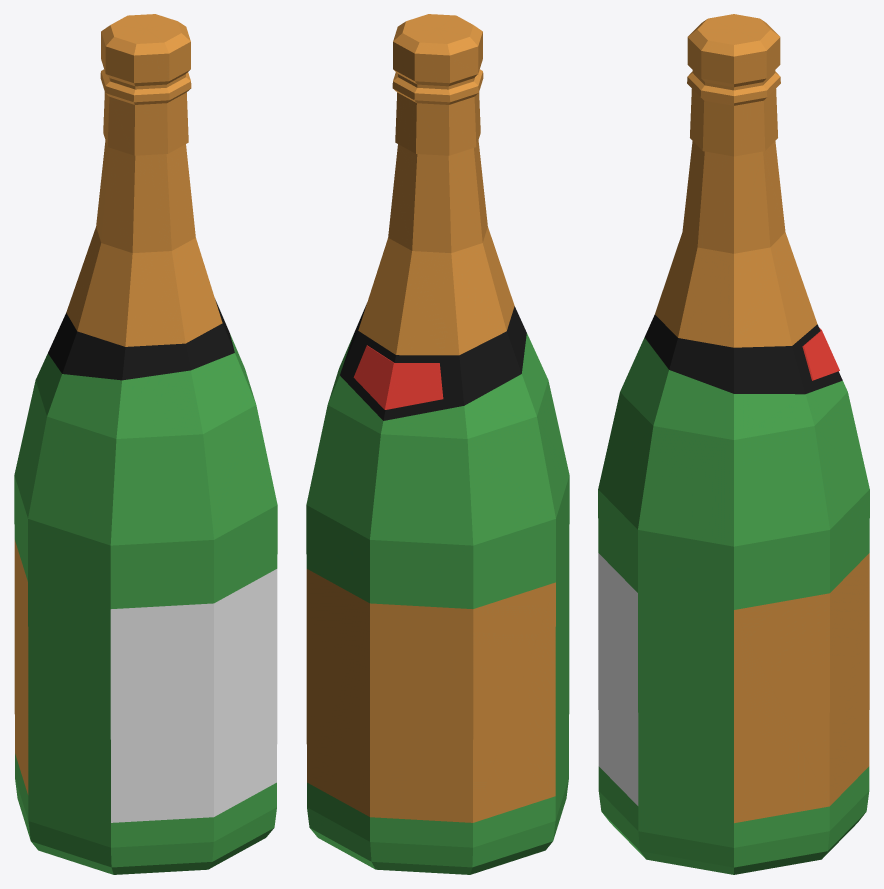
Rendered from Champagne-transformed.glb.
3 renders of one model, left to right at view 1: azimuth 30°, elevation 25°; view 2: azimuth 150°, elevation 25°; view 3: azimuth 270°, elevation 25°, orthographic.
Visible parts, largest first — view 1: Bottle_of_Champagne_Circle.009; view 2: Bottle_of_Champagne_Circle.009; view 3: Bottle_of_Champagne_Circle.009.
Boxes of the visible parts, x1=… form: Bottle_of_Champagne_Circle.009: x1=14, y1=14, x2=277, y2=874; Bottle_of_Champagne_Circle.009: x1=306, y1=14, x2=569, y2=874; Bottle_of_Champagne_Circle.009: x1=598, y1=14, x2=869, y2=874.
Size of the model in its own units: 3.1 by 9.98 by 3.1.
Materials: 1 (1 with a texture image).
